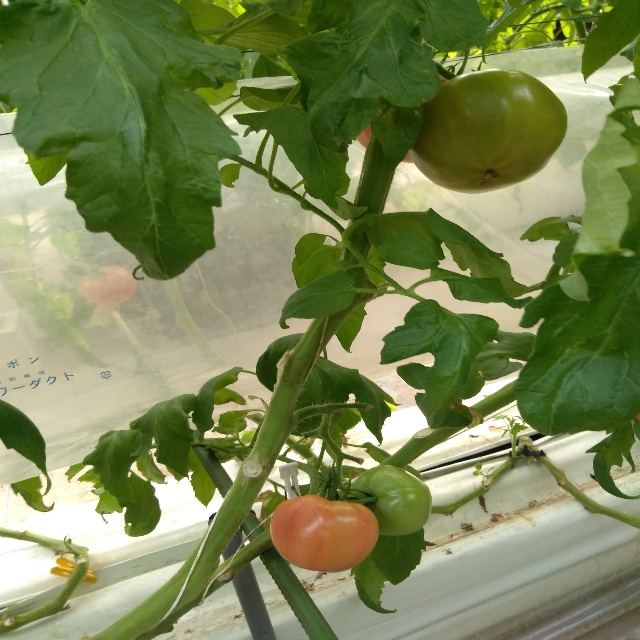b_green: (409, 69, 569, 195), (348, 465, 432, 535)
b_half_ripened: (271, 495, 379, 573)
